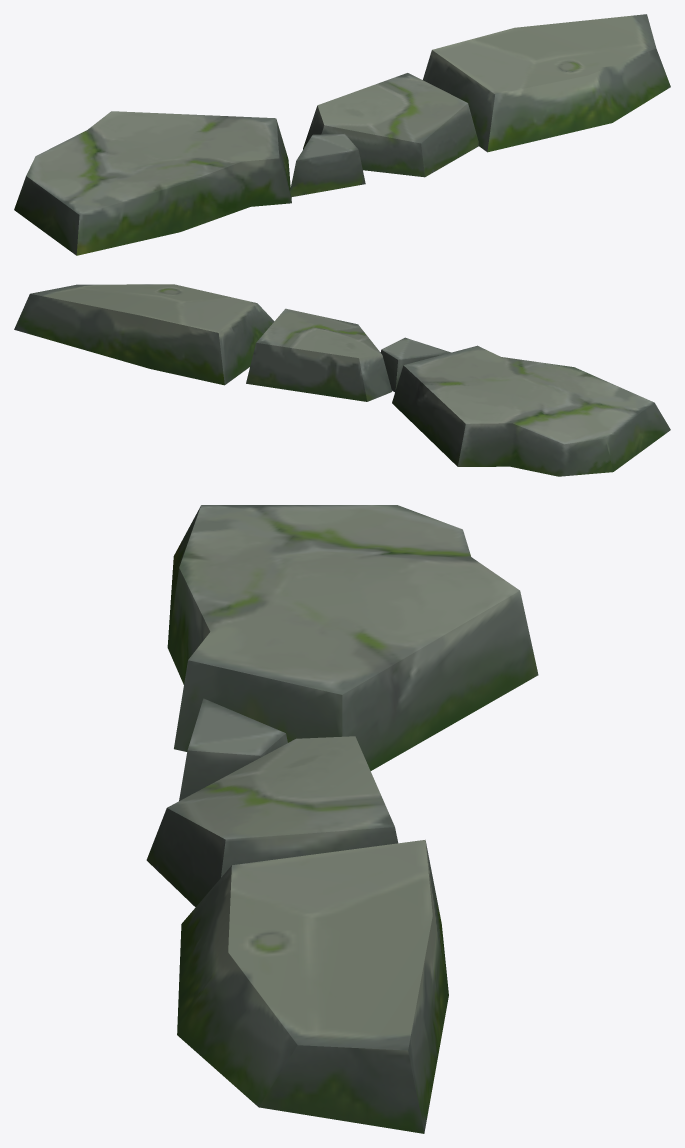
The model's file is scene_lawennushandao_stone07.FBX.
3 views of the same model, one above another, from view 1: azimuth 30°, elevation 25°; view 2: azimuth 150°, elevation 25°; view 3: azimuth 270°, elevation 25° (orthographic). The views are drawn at different scales.
Parts seen in each view (by area): view 1: scene_lawennushandao_stone07; view 2: scene_lawennushandao_stone07; view 3: scene_lawennushandao_stone07.
Boxes of the visible parts, bbox=[...] form: scene_lawennushandao_stone07: bbox=[14, 14, 670, 255]; scene_lawennushandao_stone07: bbox=[14, 284, 670, 476]; scene_lawennushandao_stone07: bbox=[146, 505, 538, 1133].
Size of the model in its own units: 388 by 30.06 by 111.
